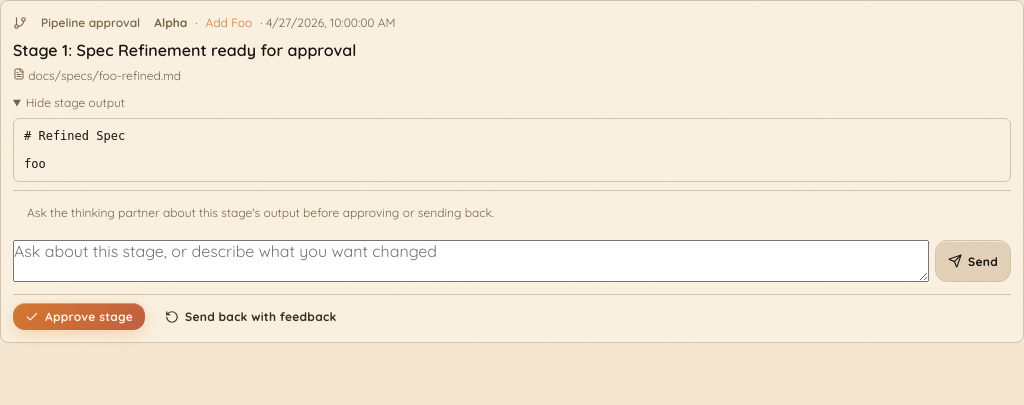
Test: PipelineApprovalCard › sends a chat message and appends both user and assistant replies
The image size is (1024, 405).
Type "hi" into the text box with placeholder "Ask about this stage, or describe what you want changed". click: (471, 261)
box: [13,240,929,282]
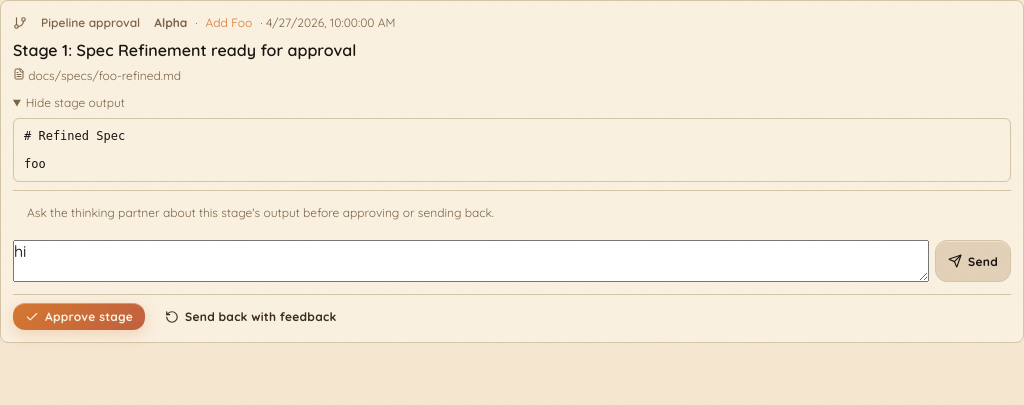
Click the button "Send". click: (973, 261)
box: [935,240,1011,282]
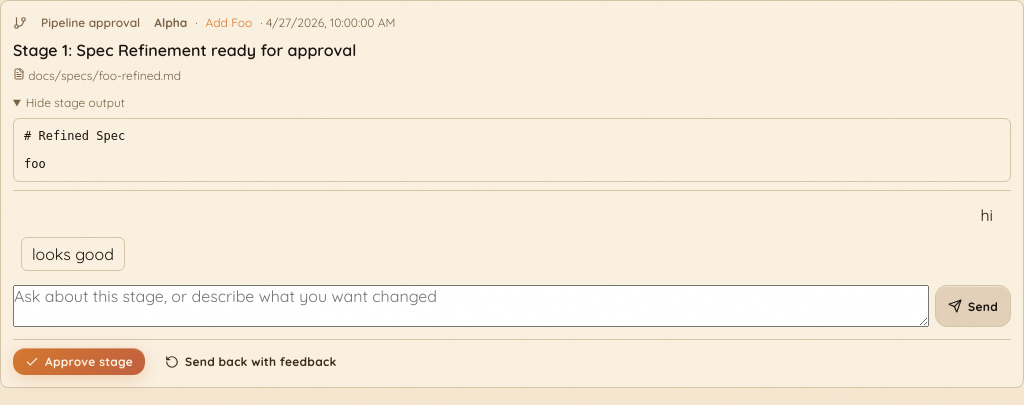
Check: the text "looks good" is shown, box [21,237,125,271]
